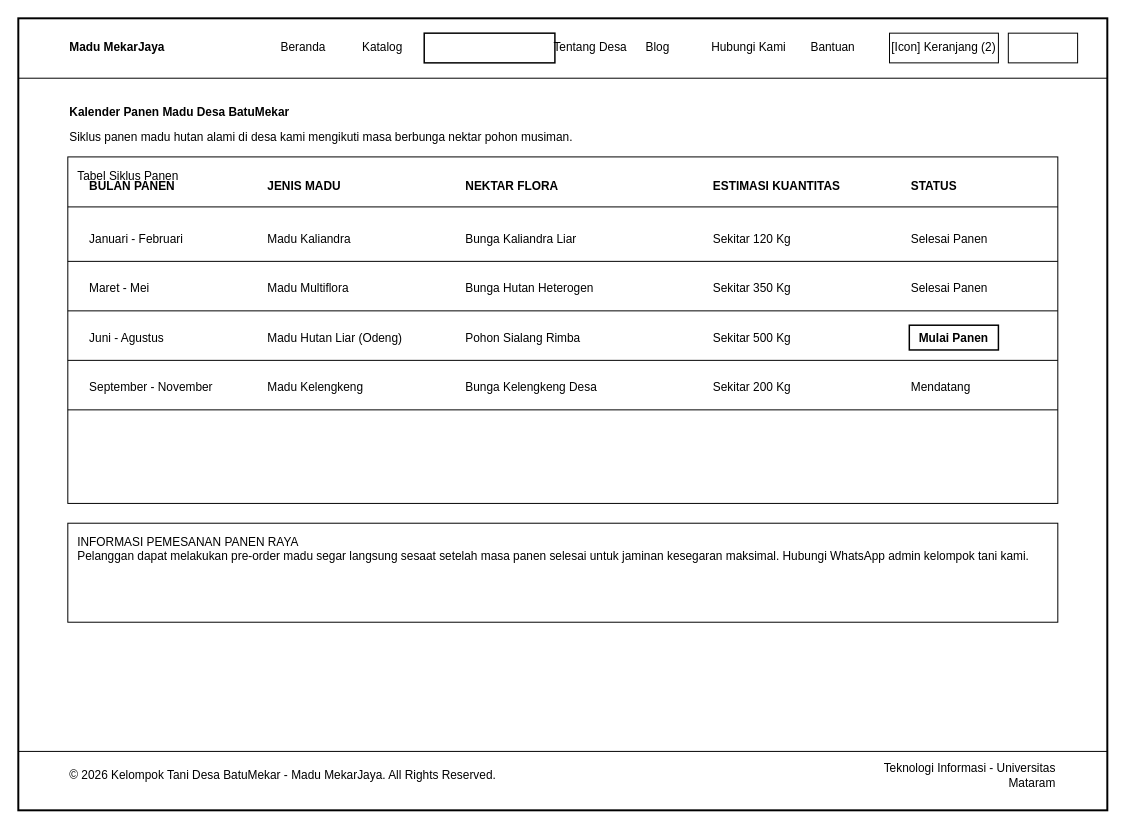
Some shapes in this 1125 by 828 pixel diagram are drawn without their labels. The shapes that lost their labels are listed below. From the top down, each one's centre as x and y in pixels, then its label:
the point at 489,47: Kalender Panen
the point at 1042,47: [Icon] Akun
